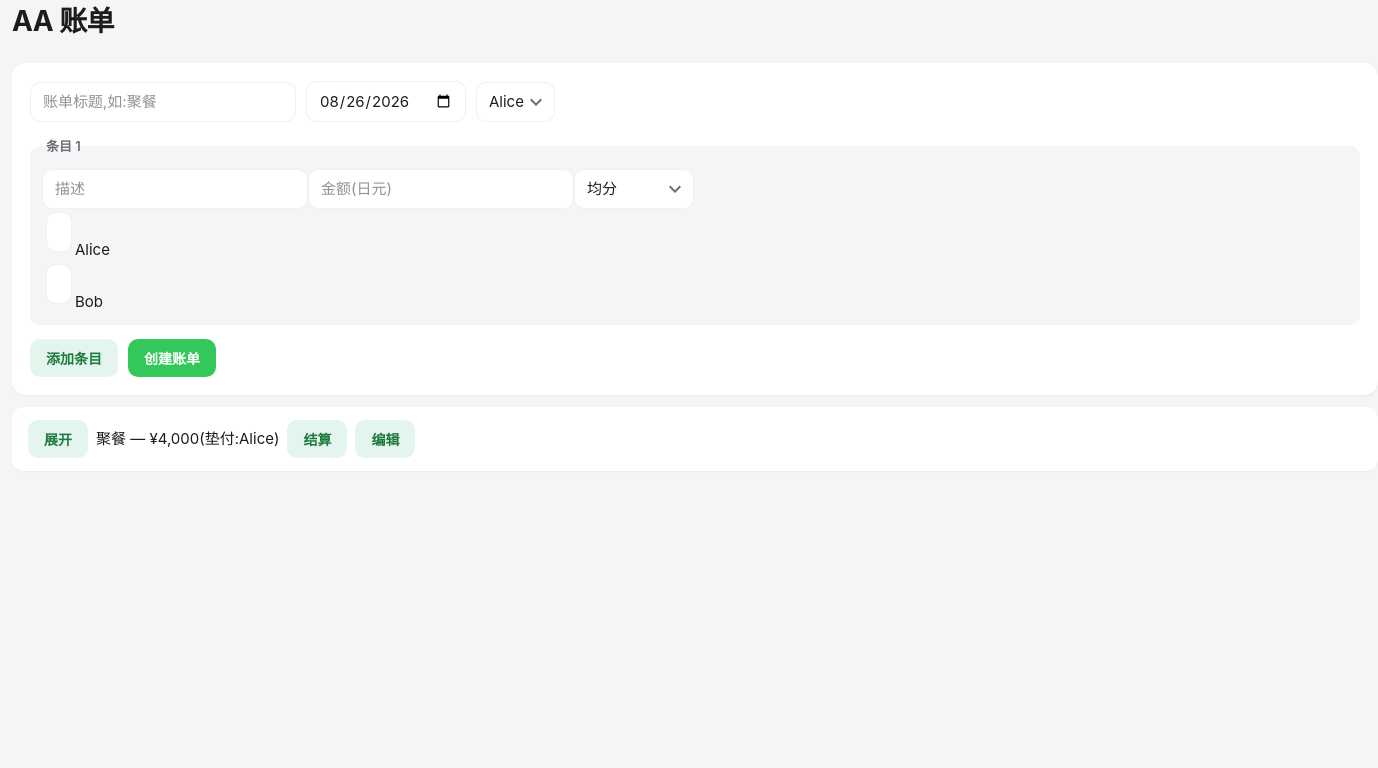
it: AA 账单组件 › 点击账单展开条目明细(描述与份额)
Expected: the list item "展开 聚餐 — ¥4,000(垫付:Alice) 结算 编辑" is shown, [12,407,1377,471]
Click the button "展开": [58, 439] box [28,420,88,458]
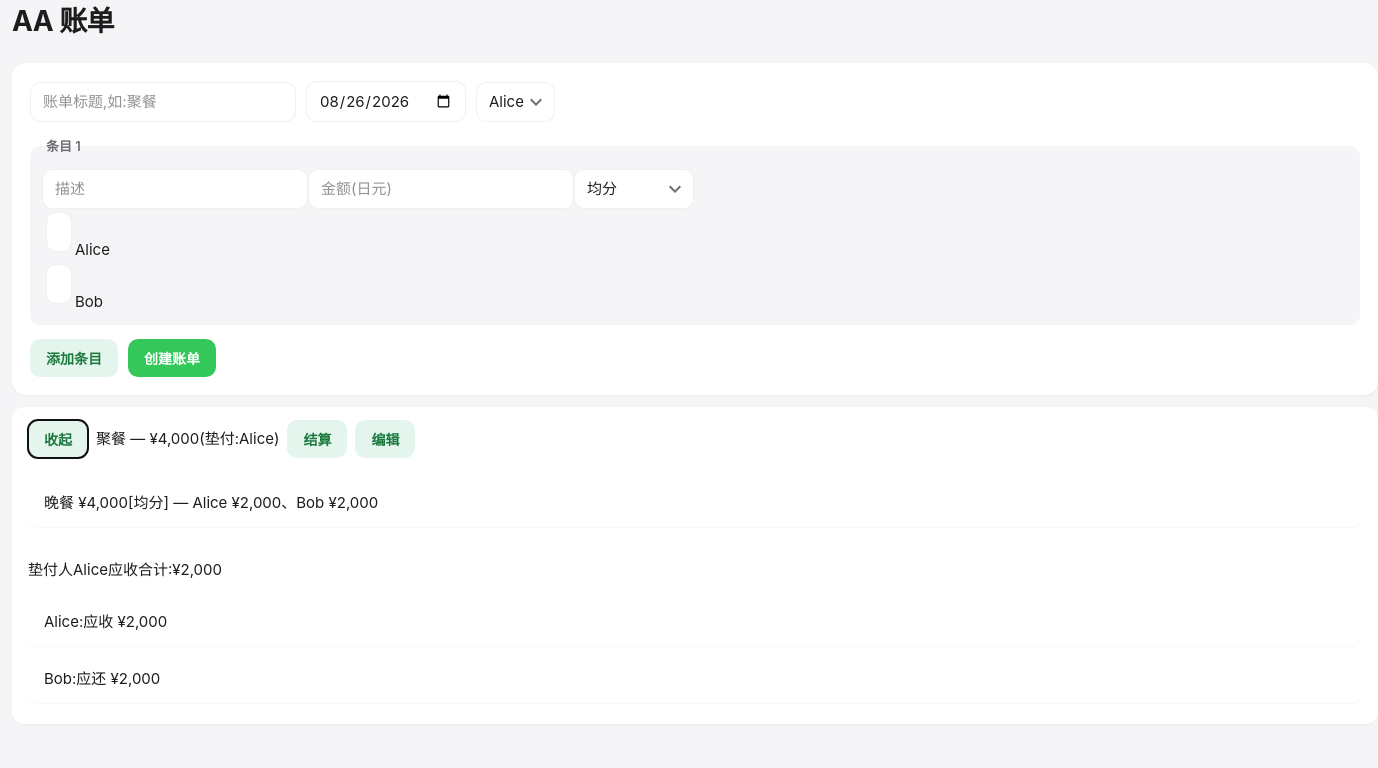
Now the list item "晚餐 ¥4,000[均分] — Alice ¥2,000、Bob ¥2,000" is shown, box [28,478,1362,527]
